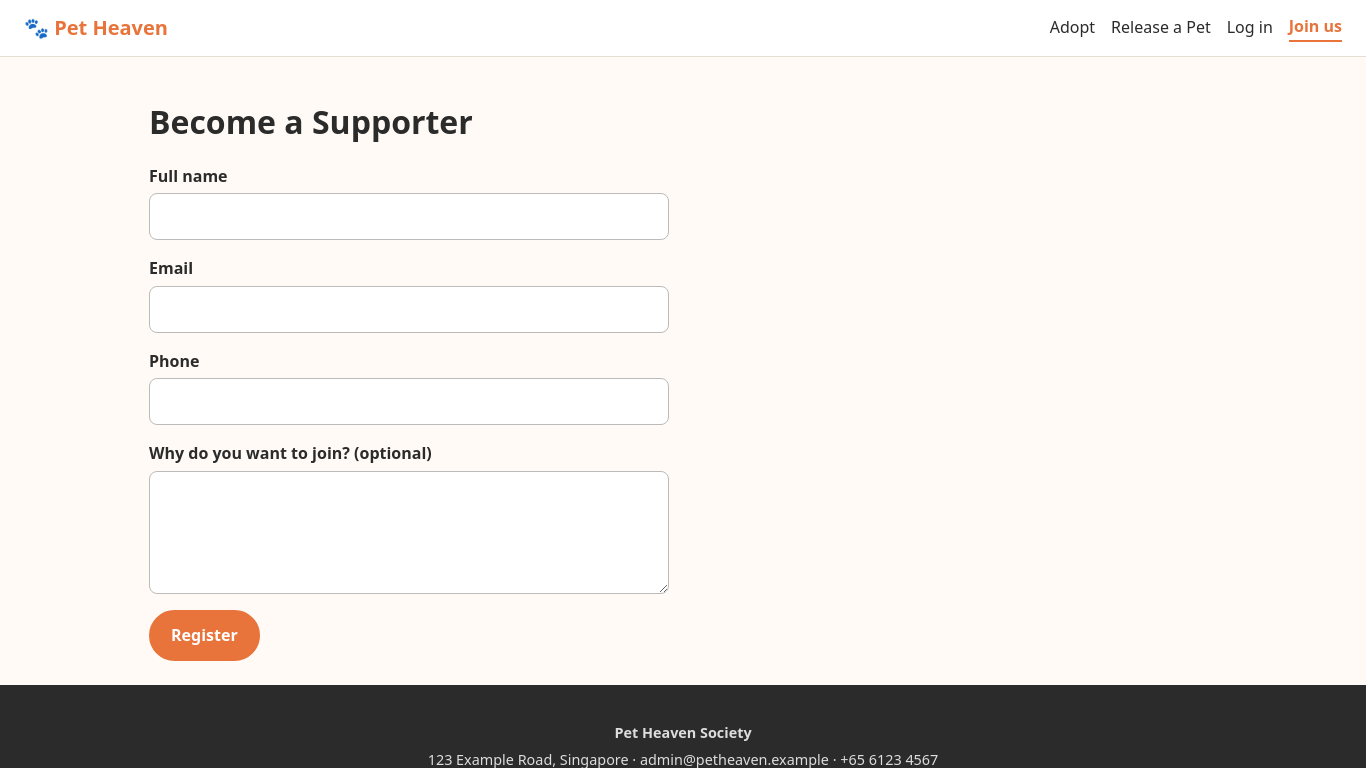
it: Forms › shows validation errors and sends nothing when the register form is empty
Click the button "Register".
click(204, 635)  # box top-left (149, 610), bottom-right (260, 661)
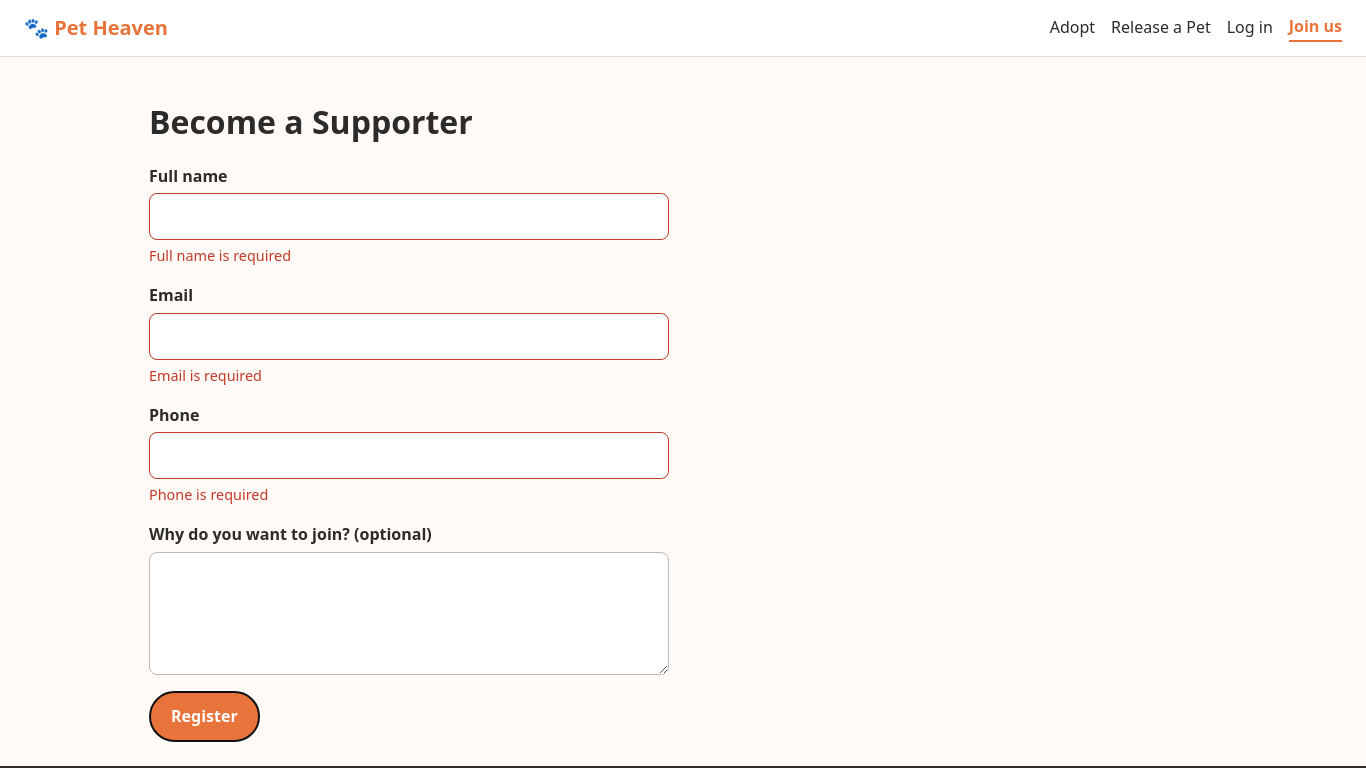
Result: the text "Full name is required" is shown at top-left (149, 246), bottom-right (291, 265)
Result: the text "Email is required" is shown at top-left (149, 366), bottom-right (262, 385)
Result: the text "Phone is required" is shown at top-left (149, 485), bottom-right (268, 504)
